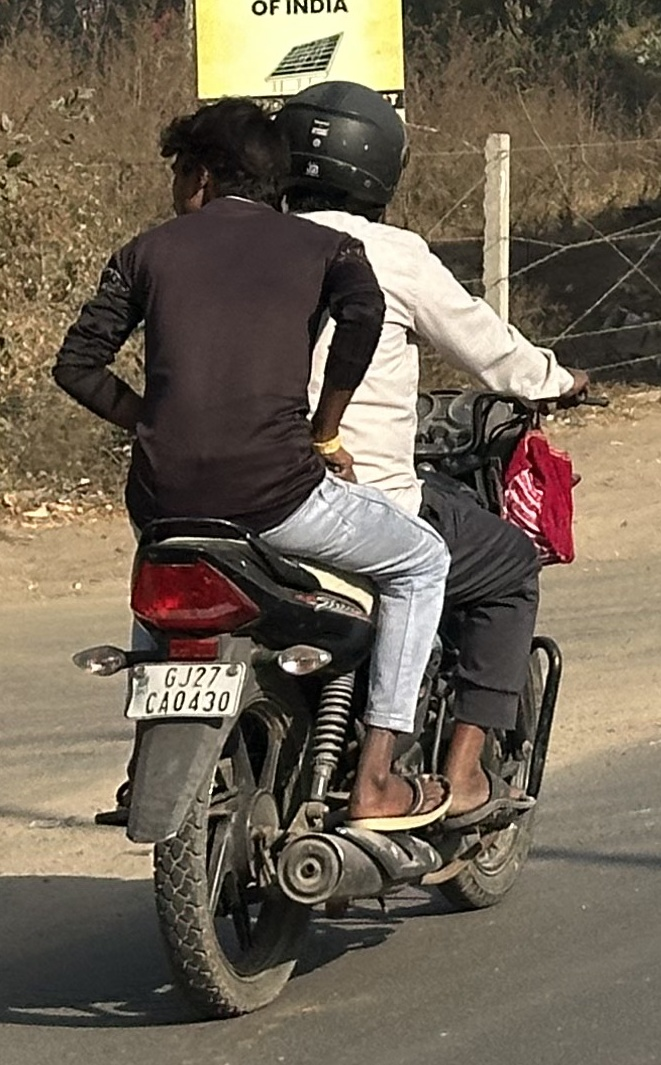BikeWithRider: (47, 73, 600, 1020)
Helmet: (275, 73, 417, 223)
NoHelmet: (157, 91, 295, 220)
